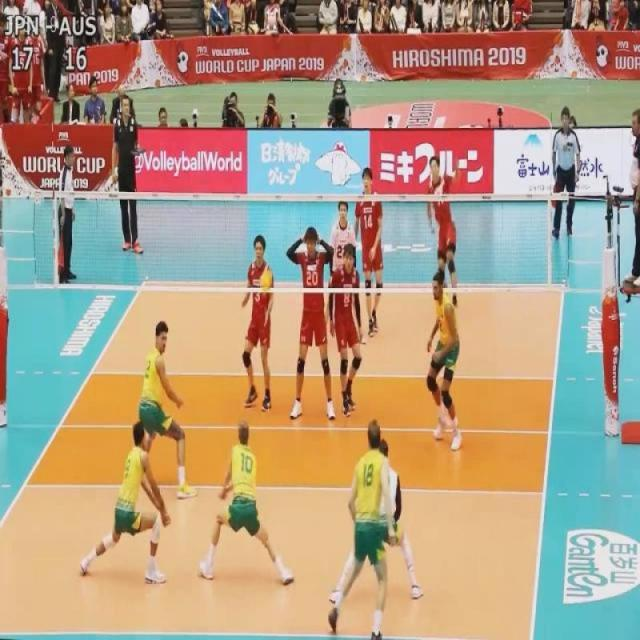volleyball: (258, 268, 274, 293)
